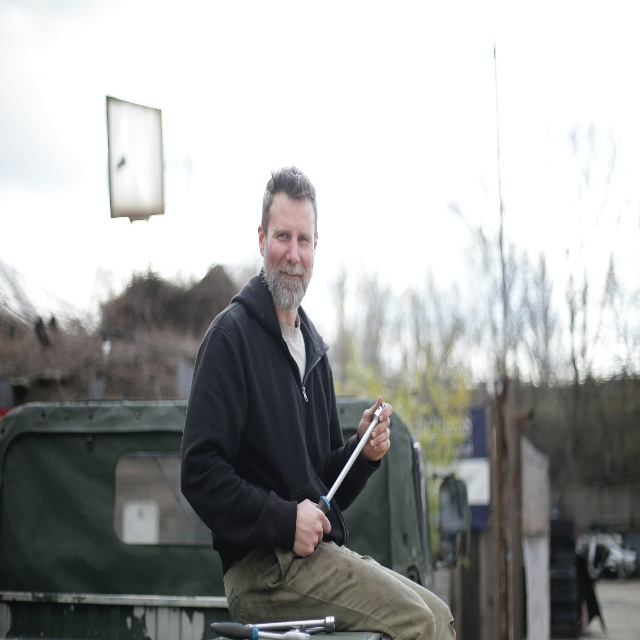Sin_guantes: (293, 498, 331, 558), (359, 397, 394, 460)
